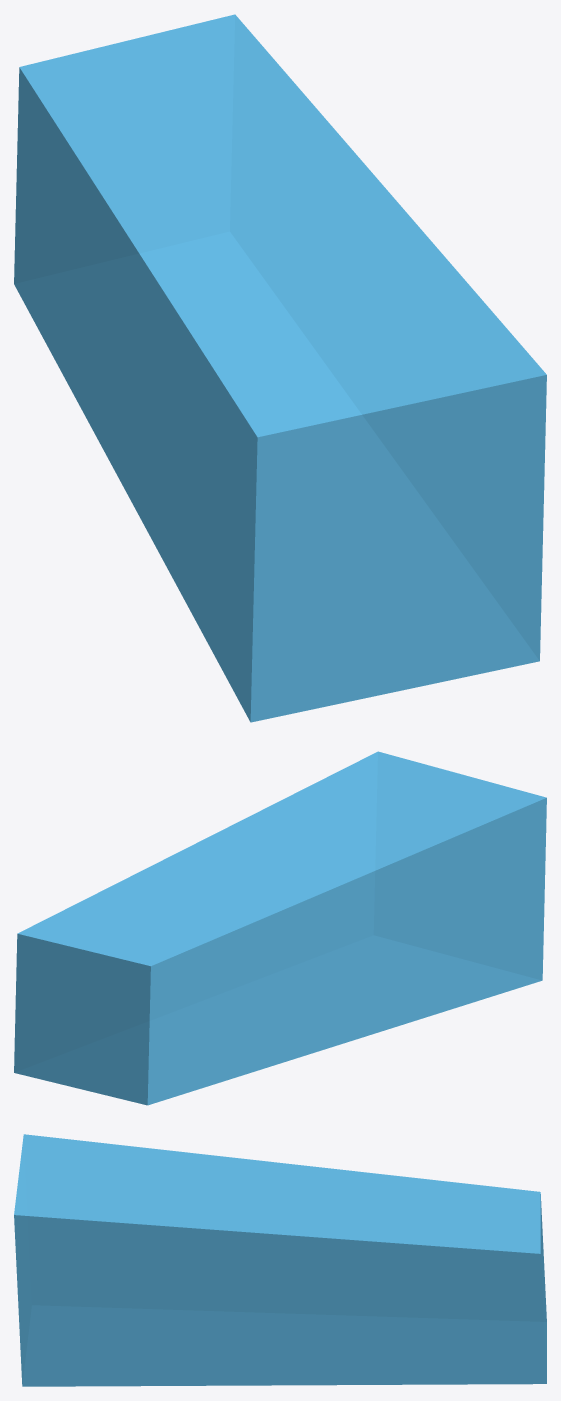
The model's file is Event_420094457_HBrechit_5.fbx.
The picture shows the model from 3 angles, top to bottom: view 1: azimuth 30°, elevation 25°; view 2: azimuth 150°, elevation 25°; view 3: azimuth 270°, elevation 25°; orthographic projection. The views are drawn at different scales.
Parts seen in each view (by area): view 1: Model; view 2: Model; view 3: Model.
Boxes of the visible parts, <box> form: Model: <box>14,14,546,722</box>; Model: <box>14,751,546,1105</box>; Model: <box>14,1134,546,1386</box>.
Bounding box in the file's own units: 0.7916 × 0.5296 × 1.49.
